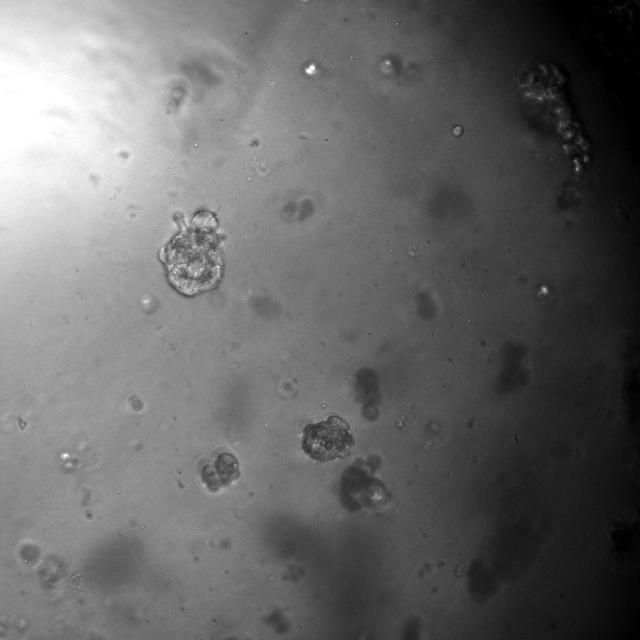organoid: (518, 61, 590, 177), (468, 514, 548, 603), (158, 208, 225, 296), (339, 454, 390, 510), (302, 414, 354, 462), (494, 343, 532, 395), (199, 449, 240, 492), (353, 366, 381, 420), (281, 196, 316, 222), (414, 287, 441, 320), (18, 541, 41, 564), (130, 398, 144, 412), (451, 123, 464, 137)
